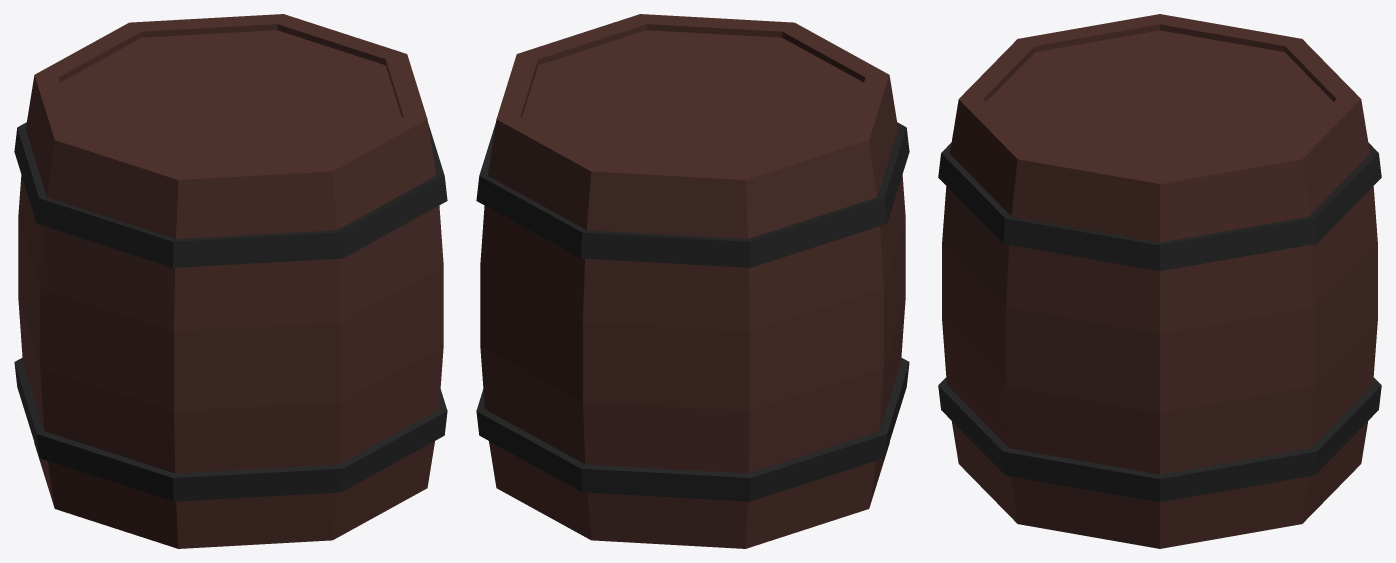
The model's file is UpdateBarrelV2.fbx.
The picture shows the model from 3 angles, left to right: view 1: azimuth 30°, elevation 25°; view 2: azimuth 150°, elevation 25°; view 3: azimuth 270°, elevation 25°; orthographic projection.
Parts seen in each view (by area): view 1: Cylinder.032; view 2: Cylinder.032; view 3: Cylinder.032.
Part boxes in pixels (x1,y1,x2,y2): Cylinder.032: [14, 14, 447, 548]; Cylinder.032: [476, 14, 909, 548]; Cylinder.032: [938, 14, 1381, 548].
Size of the model in its own units: 123 by 111 by 123.
